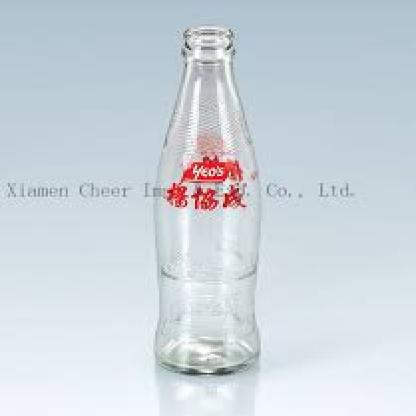Can: (151, 24, 265, 378)
